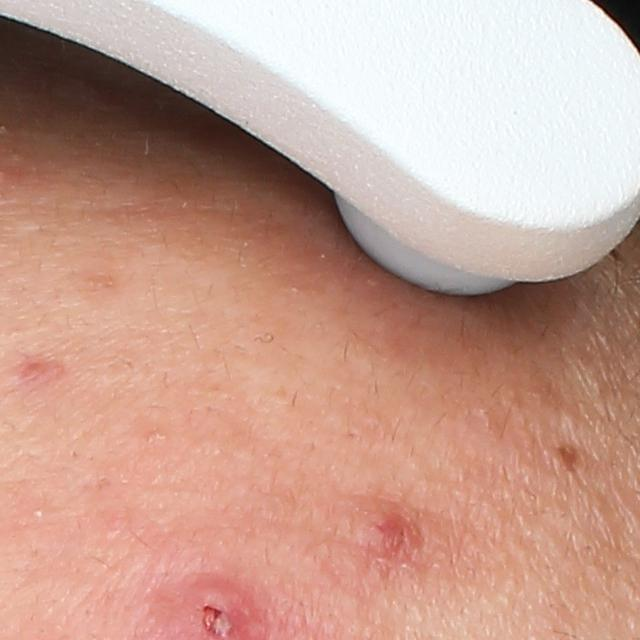comedo: (556, 405, 583, 436)
papule: (355, 501, 435, 572), (17, 350, 62, 386)
